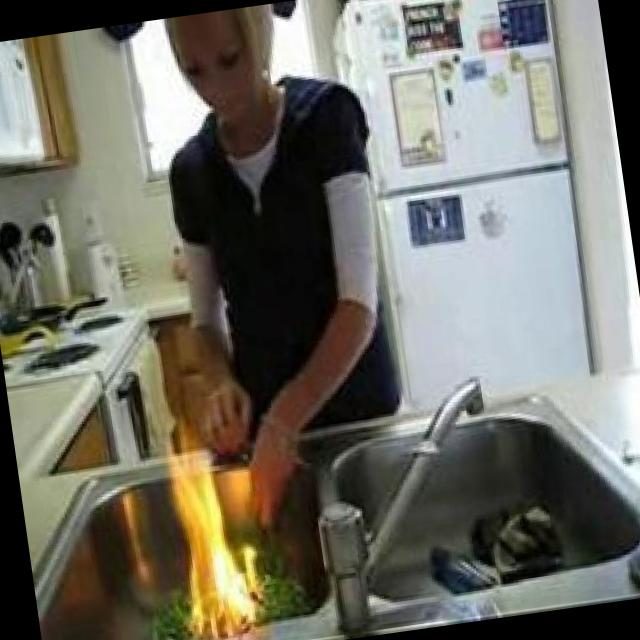Fire: (158, 431, 265, 640)
